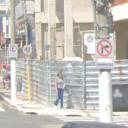NoVirarDireita: (97, 39, 113, 57)
speed_limit_40: (22, 44, 33, 56)
